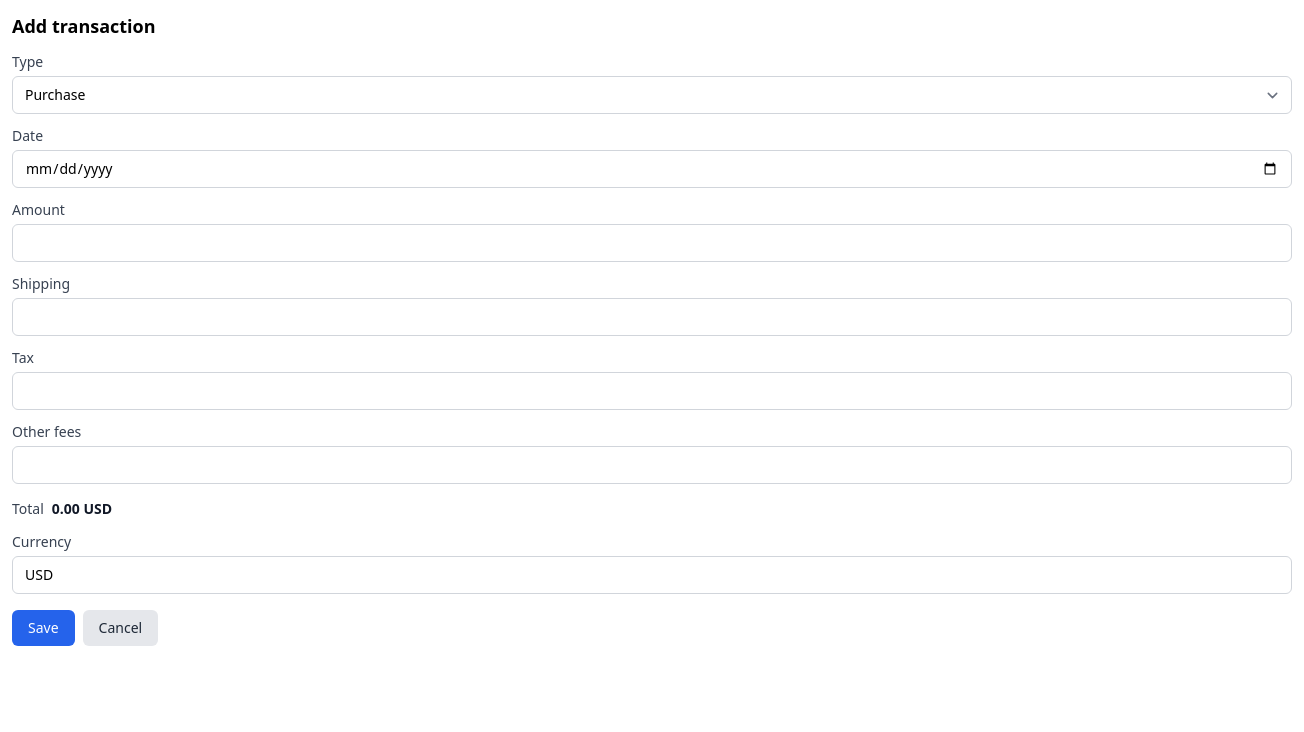
Test case: TransactionForm › shows a live derived total
The image size is (1304, 732).
Type "100" into the number field labelled "Amount" at [652, 243], box [12, 224, 1292, 262]
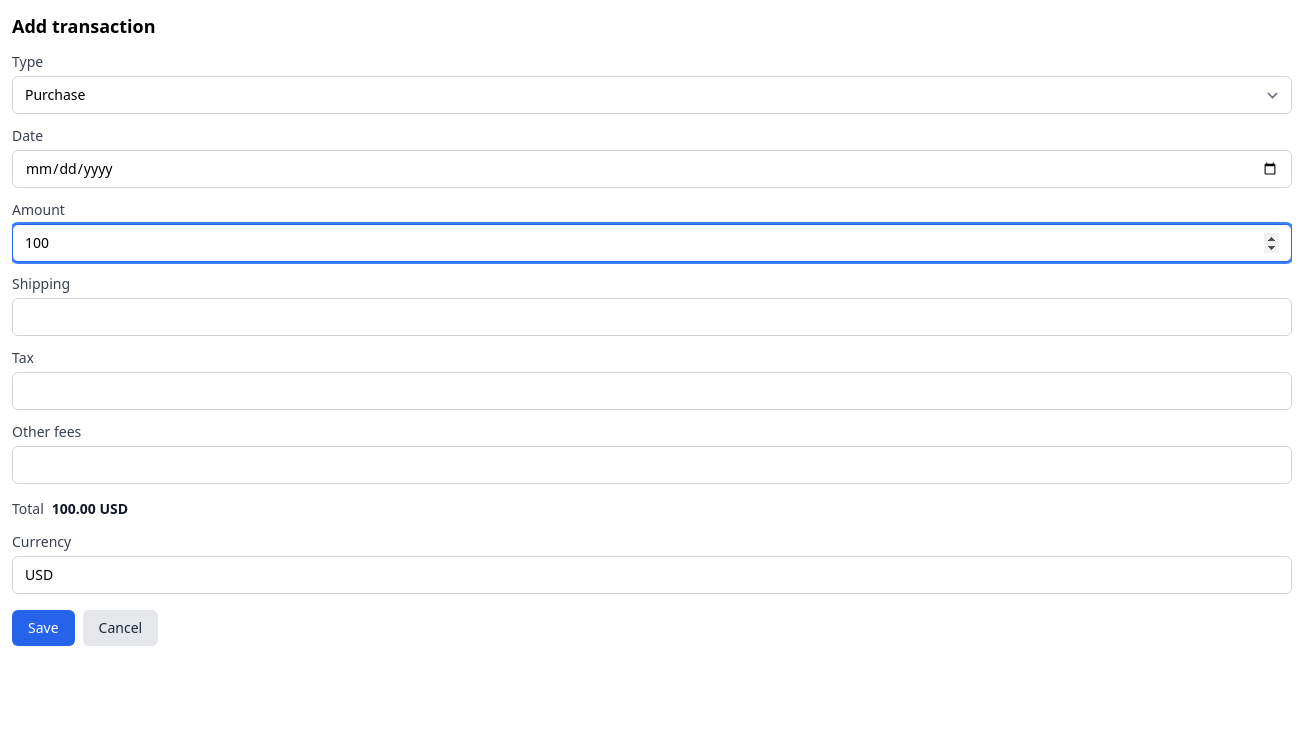
Type "10" into the number field labelled "Shipping" at [652, 317], box [12, 298, 1292, 336]
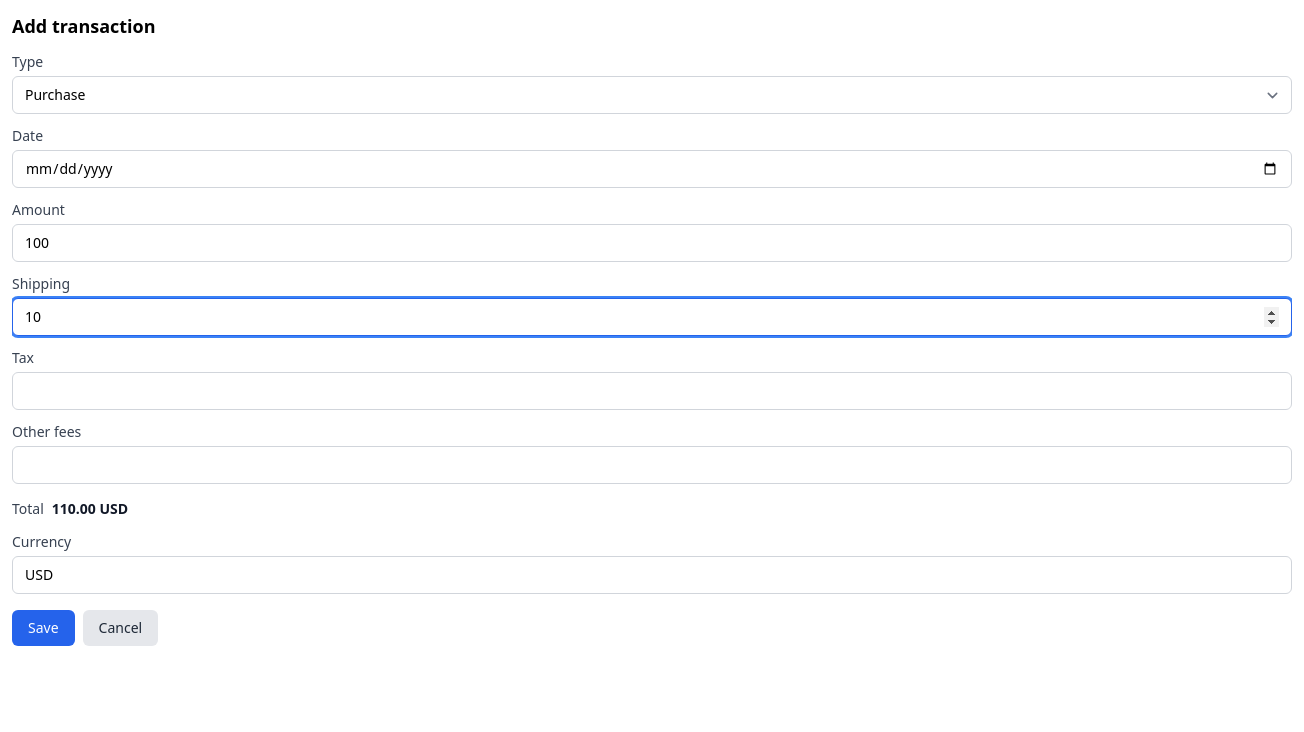
Expected: the text named "Total" shows "110.00", [52, 499, 96, 518]
